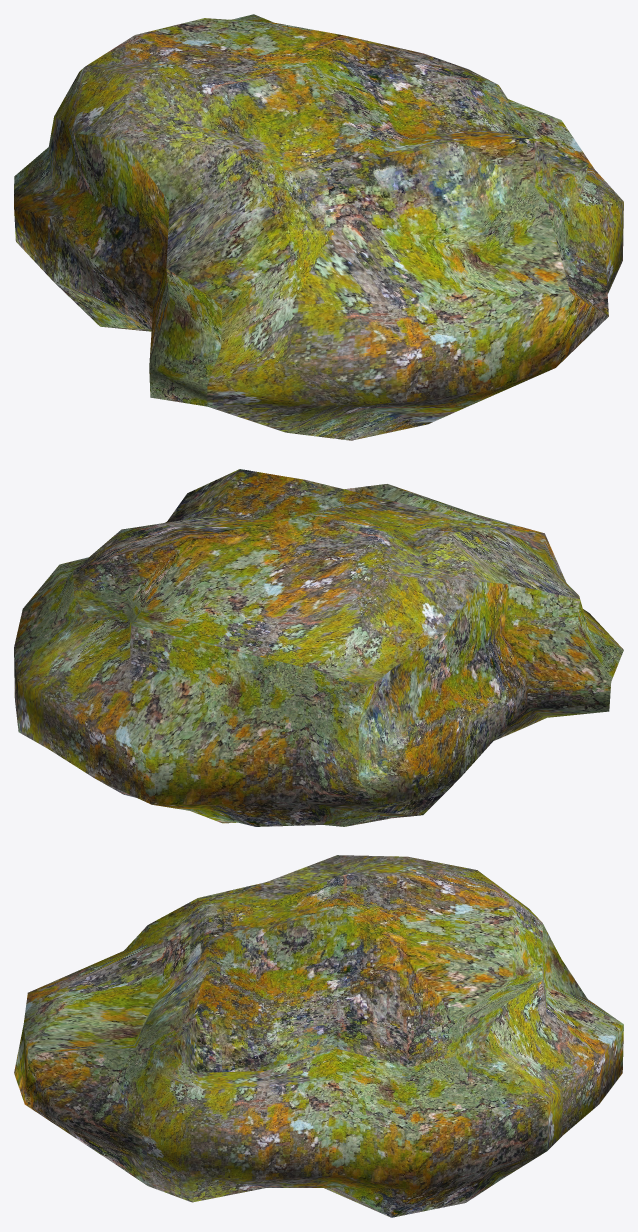
The model's file is rock_mossy_02.dae.
The picture shows the model from 3 angles, top to bottom: view 1: azimuth 30°, elevation 25°; view 2: azimuth 150°, elevation 25°; view 3: azimuth 270°, elevation 25°; orthographic projection. The views are drawn at different scales.
Parts seen in each view (by area): view 1: pCube1; view 2: pCube1; view 3: pCube1.
Boxes of the visible parts, x1=… form: pCube1: x1=14, y1=14, x2=623, y2=440; pCube1: x1=14, y1=469, x2=623, y2=826; pCube1: x1=14, y1=855, x2=623, y2=1217.
Bounding box in the file's own units: 4.75 × 2.57 × 5.77.
